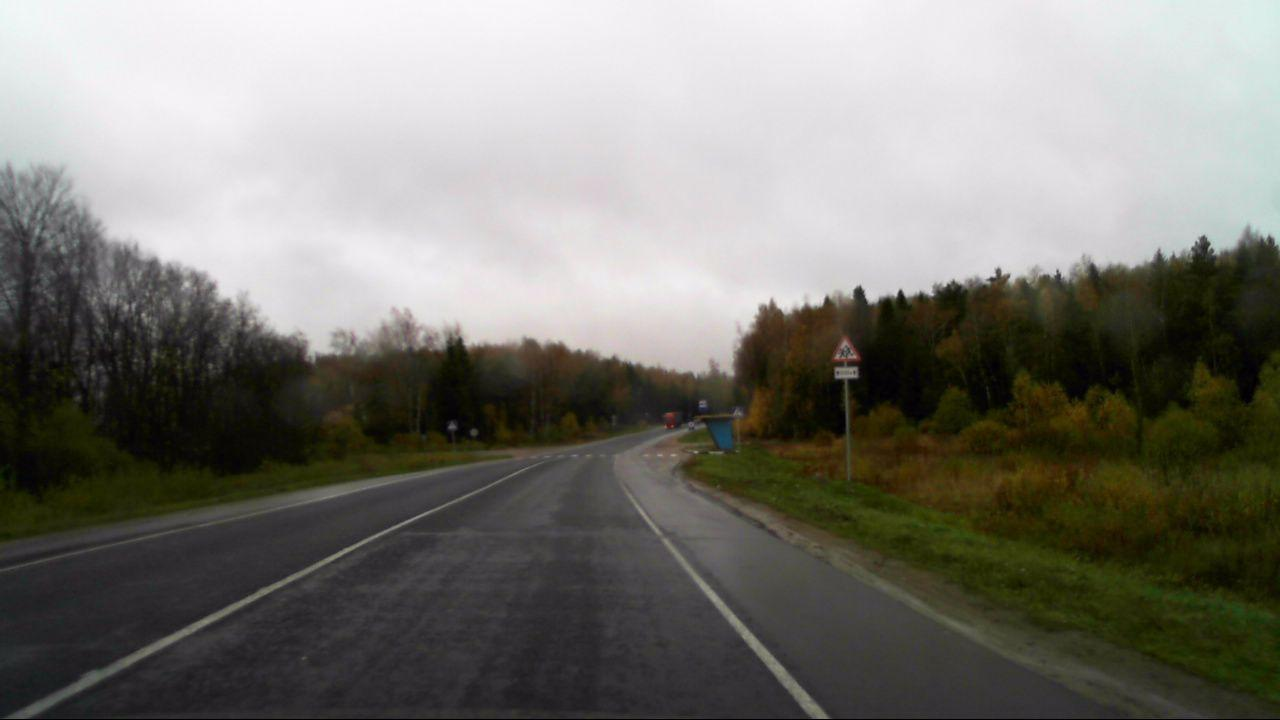road_sign: (827, 332, 865, 364)
